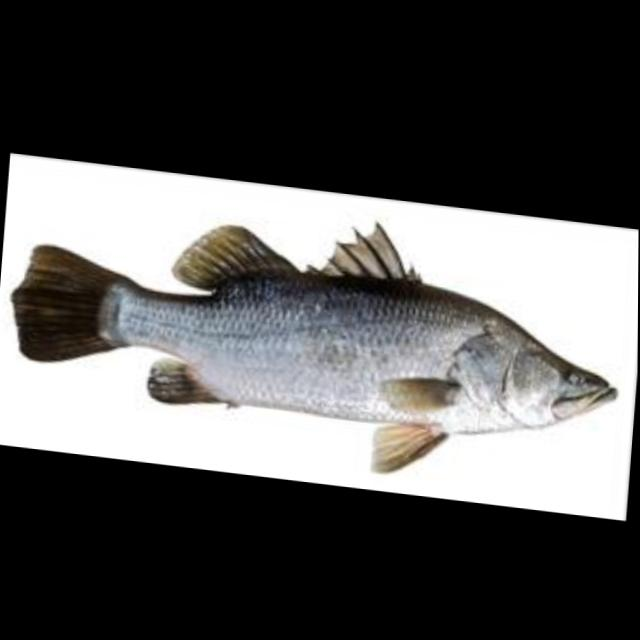Seabass: (0, 175, 630, 503)
